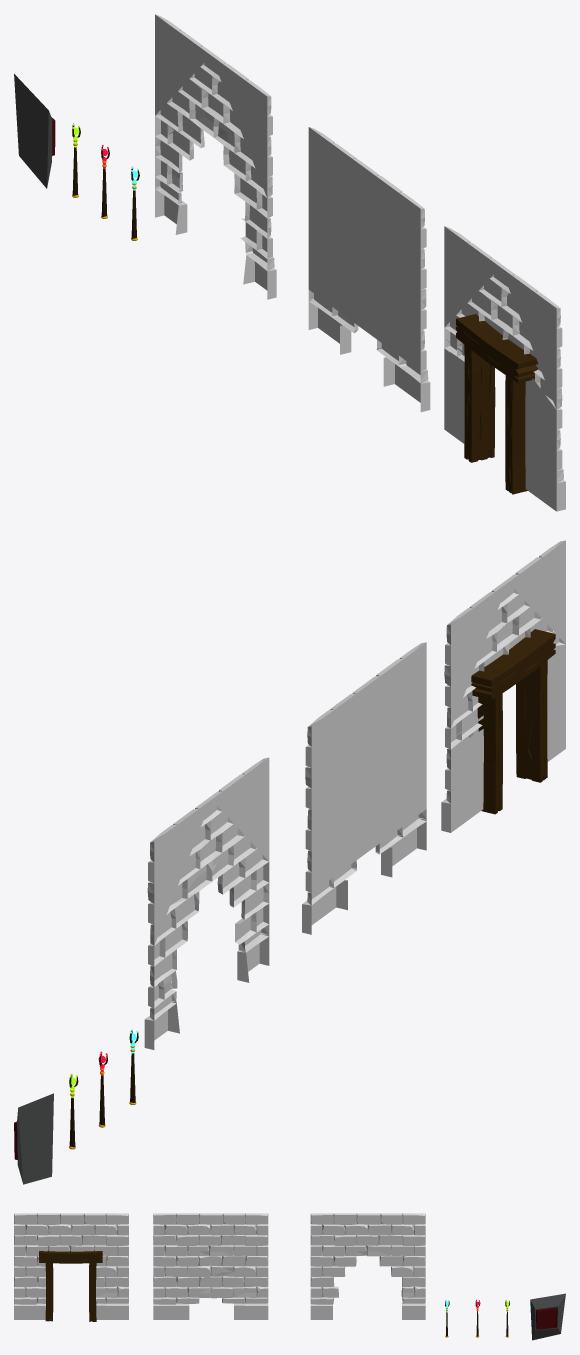
Rendered from Models.fbx.
3 renders of one model, top to bottom at view 1: azimuth 30°, elevation 25°; view 2: azimuth 150°, elevation 25°; view 3: azimuth 270°, elevation 25°, orthographic. The views are drawn at different scales.
Parts seen in each view (by area): view 1: DoorWall, SmallHoleWall, BigHoleWall, Button_Plate; view 2: DoorWall, SmallHoleWall, BigHoleWall, Button_Plate; view 3: SmallHoleWall, DoorWall, BigHoleWall, Button_Plate, Button.
Part boxes in pixels (x1=…): DoorWall: x1=444, y1=226, x2=565, y2=511; SmallHoleWall: x1=308, y1=127, x2=430, y2=411; BigHoleWall: x1=155, y1=14, x2=276, y2=299; Button_Plate: x1=14, y1=74, x2=52, y2=188; DoorWall: x1=441, y1=540, x2=565, y2=832; SmallHoleWall: x1=302, y1=642, x2=426, y2=934; BigHoleWall: x1=144, y1=757, x2=269, y2=1049; Button_Plate: x1=17, y1=1093, x2=53, y2=1184; SmallHoleWall: x1=153, y1=1213, x2=268, y2=1319; DoorWall: x1=14, y1=1213, x2=128, y2=1321; BigHoleWall: x1=310, y1=1213, x2=425, y2=1319; Button_Plate: x1=530, y1=1293, x2=565, y2=1340; Button: x1=536, y1=1307, x2=556, y2=1329.
Bounding box in the file's own units: 57.89 × 491 × 1919.
